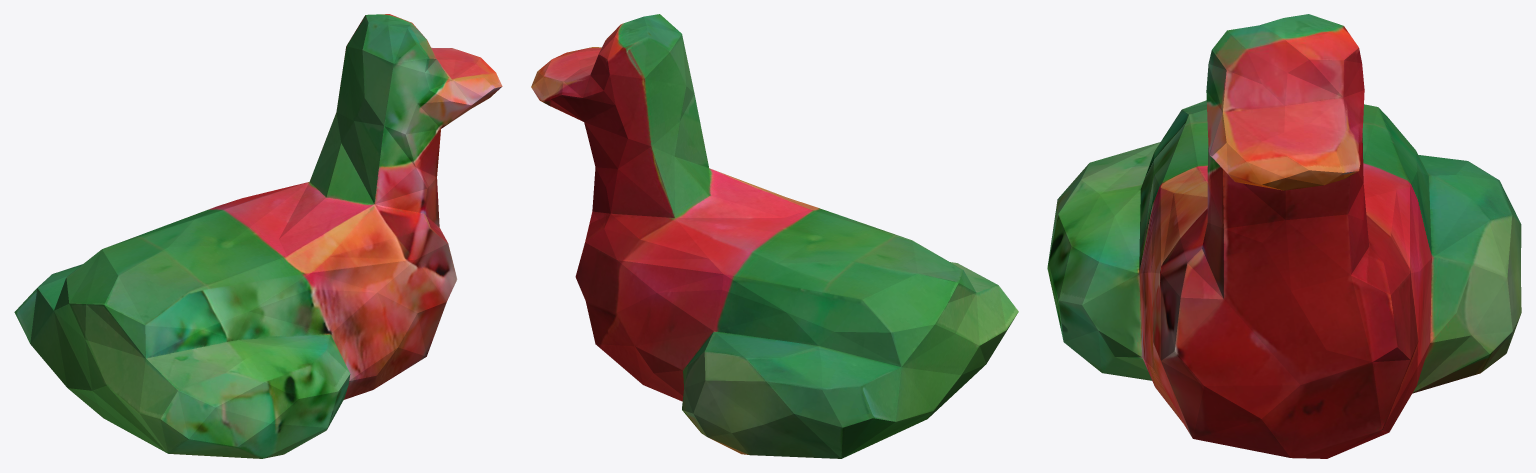
File: green_red.glb
3 renders of one model, left to right at view 1: azimuth 30°, elevation 25°; view 2: azimuth 150°, elevation 25°; view 3: azimuth 270°, elevation 25°, orthographic. The views are drawn at different scales.
Visible parts, largest first — view 1: mvadapter_node_i2_greenred; view 2: mvadapter_node_i2_greenred; view 3: mvadapter_node_i2_greenred.
Part boxes in pixels (x1,y1,x2,y2): mvadapter_node_i2_greenred: (14,14,502,458); mvadapter_node_i2_greenred: (531,14,1018,458); mvadapter_node_i2_greenred: (1047,14,1521,458).
Size of the model in its own units: 0.9051 by 0.7155 by 0.6717.
Materials: 1 (1 with a texture image).
